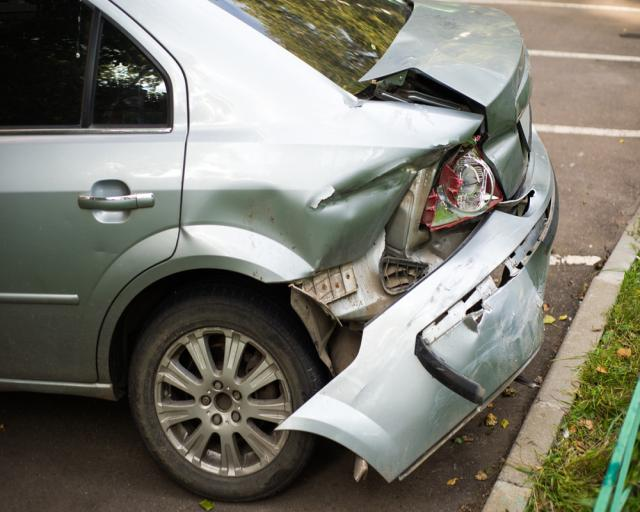dent: (183, 178, 320, 278), (302, 159, 410, 218)
lamp broken: (423, 142, 503, 232)
